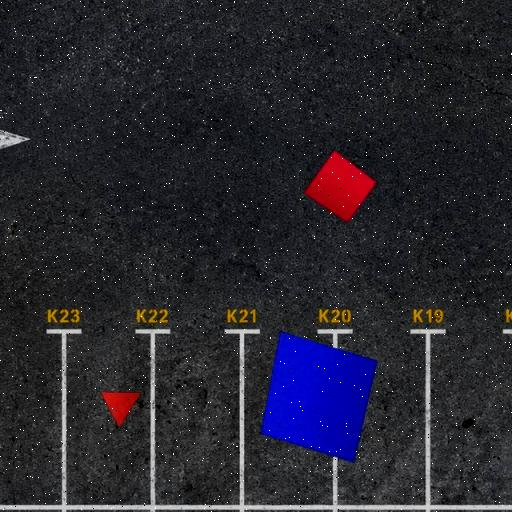BLUE_SQUARE: (260, 330, 378, 464)
RED_SQUARE: (303, 150, 378, 224)
